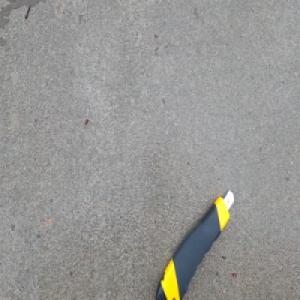Cutter: (153, 188, 235, 300)
